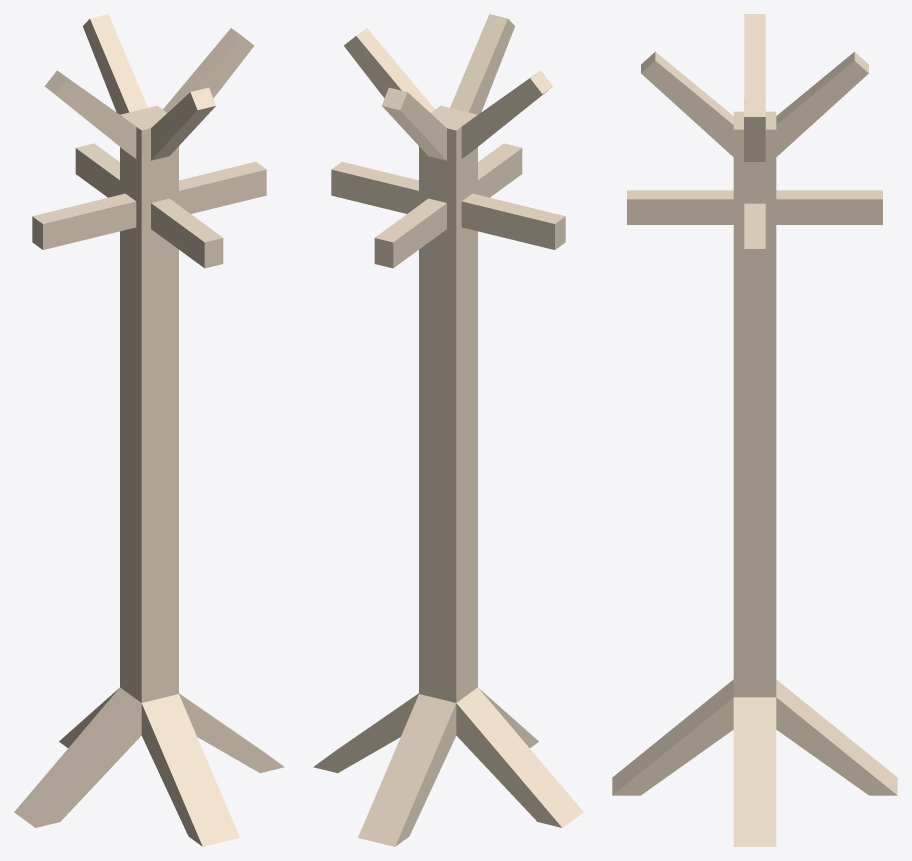
Rendered from furn_coatrack.glb.
3 views of the same model, side by side, from view 1: azimuth 30°, elevation 25°; view 2: azimuth 150°, elevation 25°; view 3: azimuth 270°, elevation 25° (orthographic).
Visible parts, largest first — view 1: coatrack; view 2: coatrack; view 3: coatrack.
Part boxes in pixels (left/top/right/bottom): coatrack: left=14, top=14, right=284, bottom=846; coatrack: left=313, top=14, right=583, bottom=846; coatrack: left=612, top=14, right=897, bottom=846.
Bounding box in the file's own units: 0.62 × 1.75 × 0.62.
